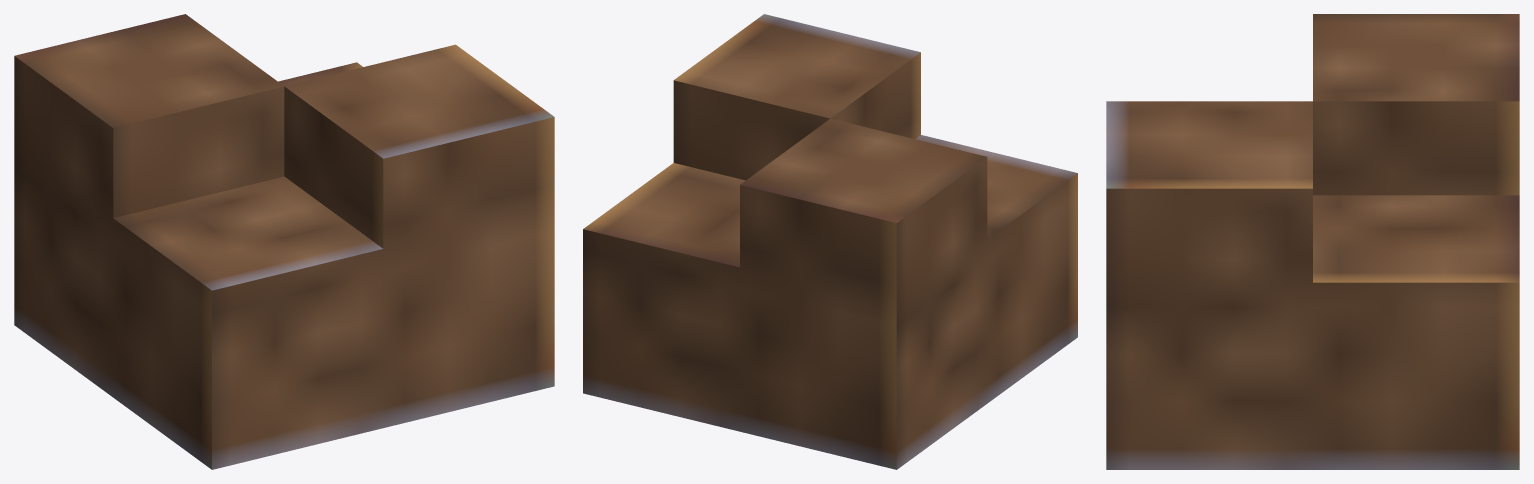
The model's file is Grass_Destroy_Step2.fbx.
The picture shows the model from 3 angles, left to right: view 1: azimuth 30°, elevation 25°; view 2: azimuth 150°, elevation 25°; view 3: azimuth 270°, elevation 25°; orthographic projection. The views are drawn at different scales.
Visible parts, largest first — view 1: Grass_Destroy_Step2; view 2: Grass_Destroy_Step2; view 3: Grass_Destroy_Step2.
Part boxes in pixels (x1=…): Grass_Destroy_Step2: x1=14, y1=14, x2=554, y2=469; Grass_Destroy_Step2: x1=583, y1=14, x2=1077, y2=469; Grass_Destroy_Step2: x1=1106, y1=14, x2=1519, y2=469.
Size of the model in its own units: 25 by 18.79 by 25.
Materials: 1 (1 with a texture image).
